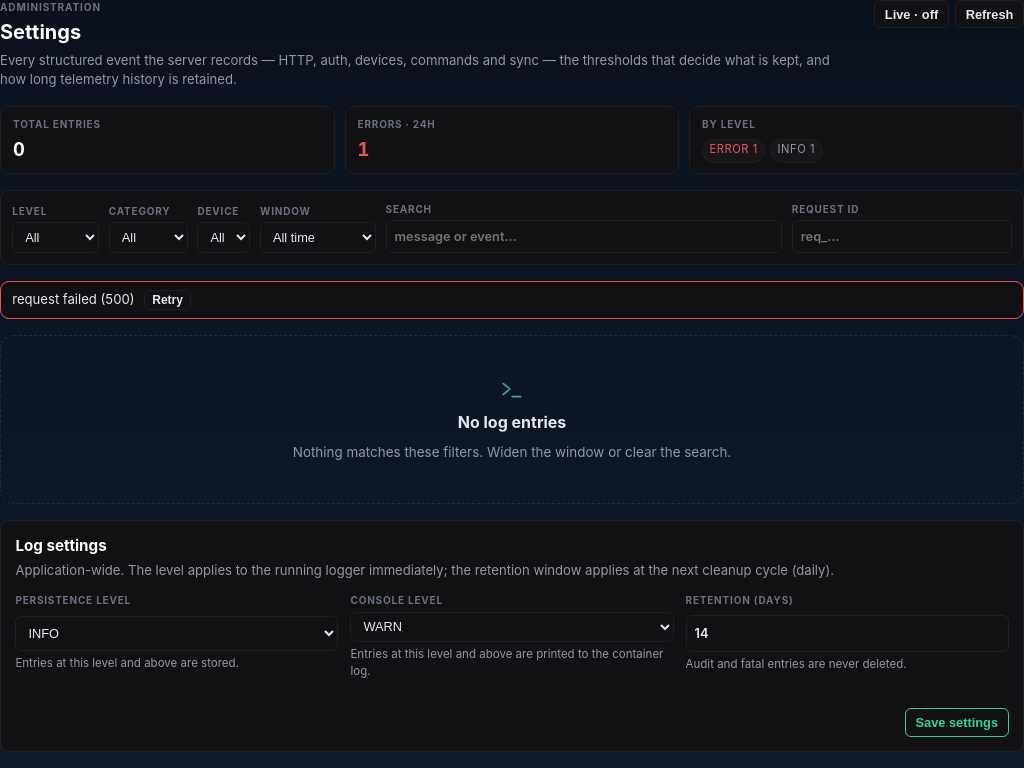
Test: Application settings screen › surfaces a failed log request with a retry instead of a blank list
Expected: the message "request failed (500) Retry" is shown, [0, 281, 1023, 320]
Click the button "Retry": (168, 300) [144, 290, 191, 310]
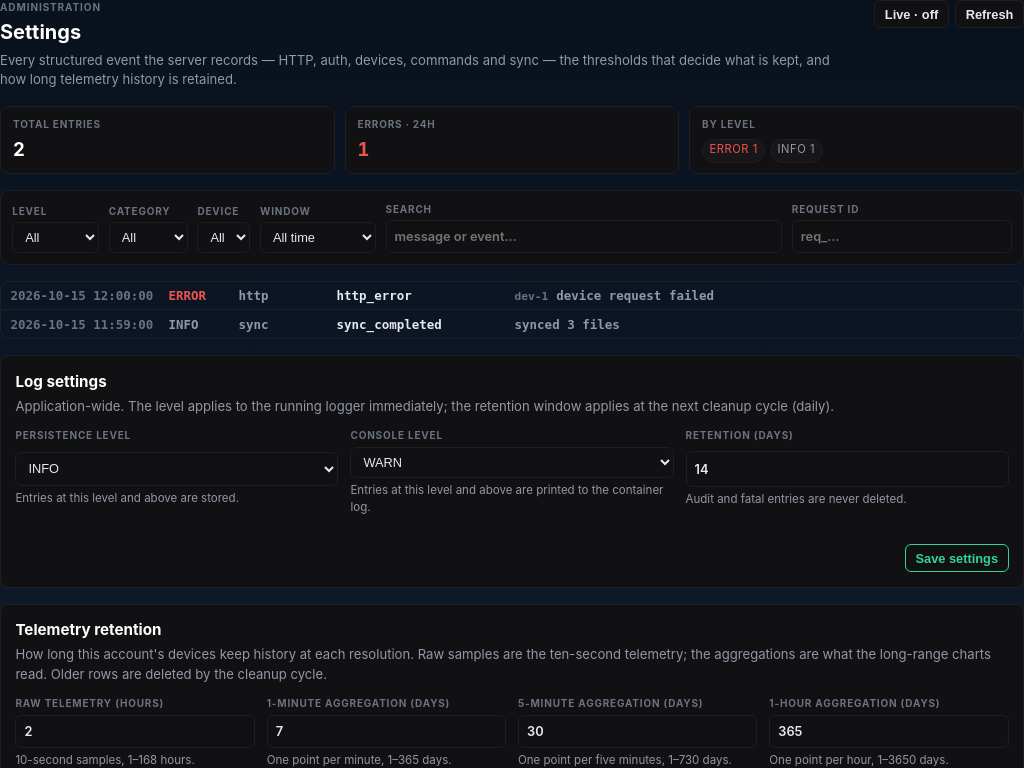
Expected: the text "http_error" is shown, [337, 288, 412, 303]
